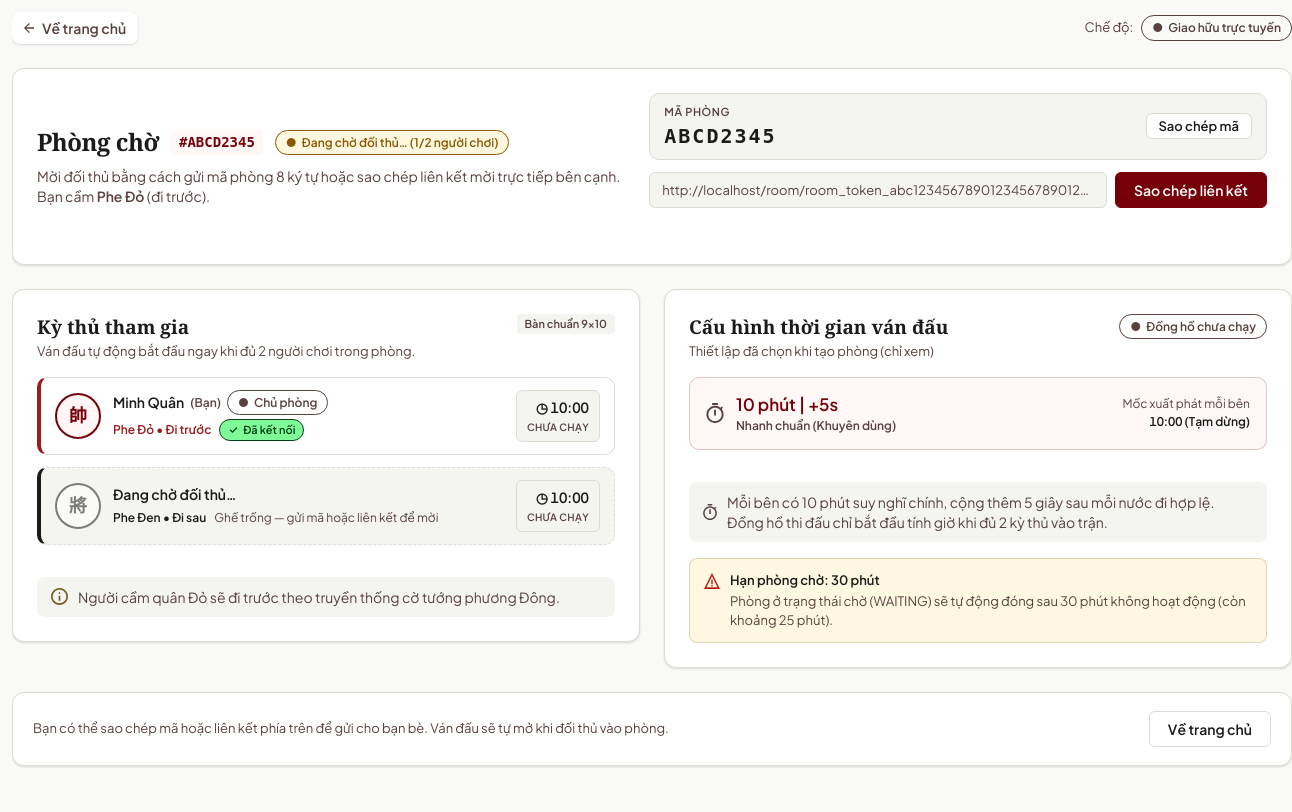
Test case: WaitingRoom › shows a manual-copy fallback message when clipboard access fails
Click the button "Sao chép liên kết" at (1191, 190), box x1=1115 y1=172 x2=1267 y2=208
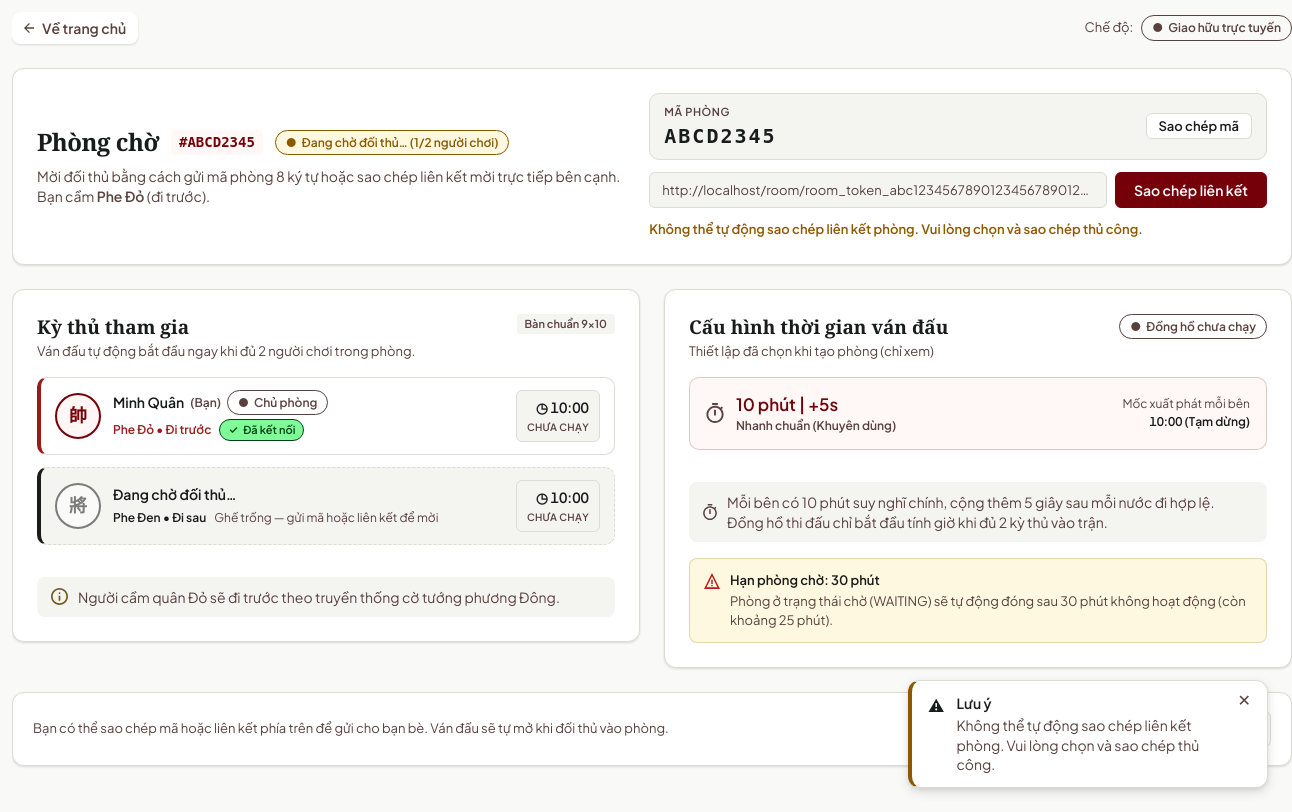
Result: the text "Không thể tự động sao chép liên kết phòng. Vui lòng chọn và sao chép thủ công." is shown at x1=649 y1=220 x2=1143 y2=236
